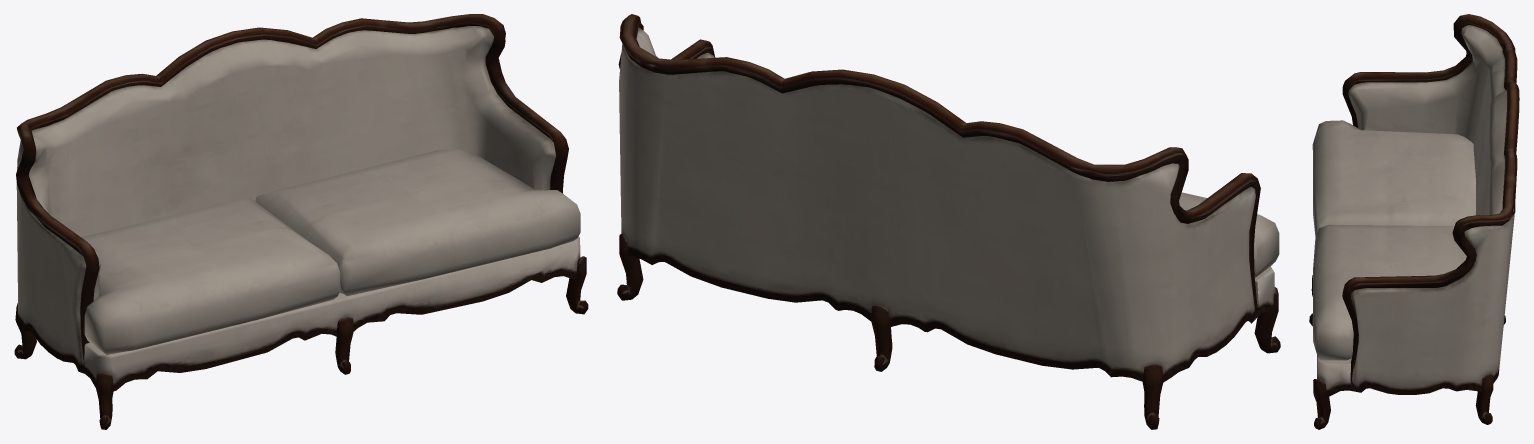
The model's file is Sofa_01.glb.
3 views of the same model, side by side, from view 1: azimuth 30°, elevation 25°; view 2: azimuth 150°, elevation 25°; view 3: azimuth 270°, elevation 25° (orthographic). The views are drawn at different scales.
Visible parts, largest first — view 1: Sofa_01; view 2: Sofa_01; view 3: Sofa_01.
Part boxes in pixels (x1,y1,x2,y2): Sofa_01: (14,14,588,429); Sofa_01: (617,14,1280,429); Sofa_01: (1309,14,1519,429).
Size of the model in its own units: 1.57 by 0.7953 by 0.658.
1 material, 1 textured.
